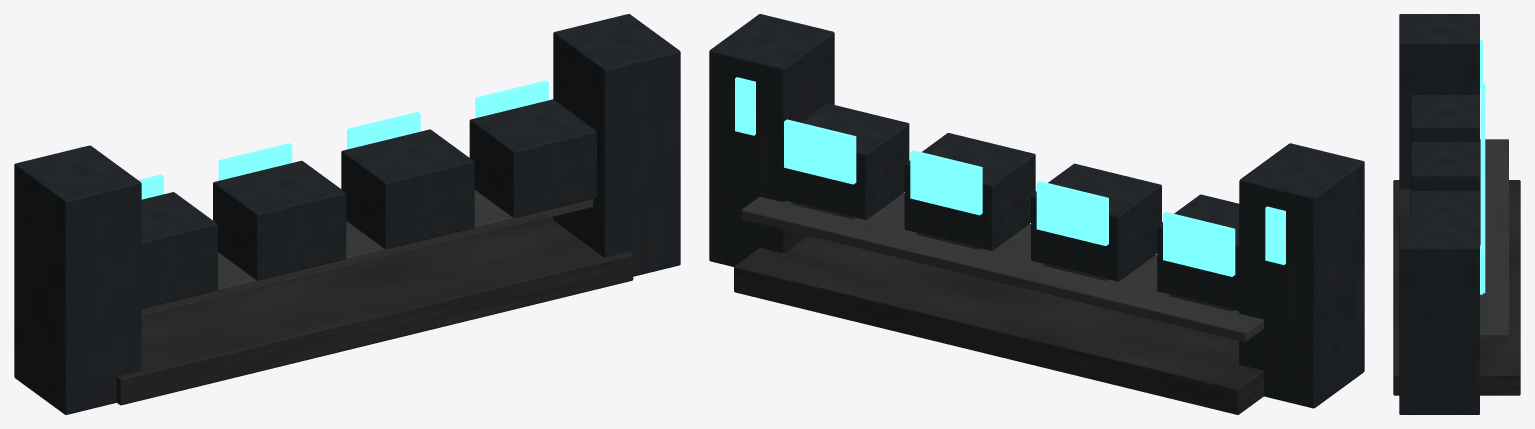
The model's file is console_bank_v3.glb.
The picture shows the model from 3 angles, left to right: view 1: azimuth 30°, elevation 25°; view 2: azimuth 150°, elevation 25°; view 3: azimuth 270°, elevation 25°; orthographic projection. The views are drawn at different scales.
Parts seen in each view (by area): view 1: Base, Tower_-4.2, Tower_4.2, Pod_2, Pod_1, Pod_3, Pod_0, Desk, Screen_1, Screen_3, Screen_2; view 2: Base, Tower_-4.2, Tower_4.2, Desk, Pod_2, Pod_1, Pod_3, Pod_0, Screen_3, Screen_1, Screen_2, Screen_0 (+2 smaller); view 3: Tower_4.2, Tower_-4.2, Base, Desk, Pod_1, Pod_0, Pod_2, Screen_0, Screen_1, Screen_2, Screen_3, TowerLite_4.2 (+1 smaller).
Part boxes in pixels (x1,y1,x2,y2): Base: (116,217,633,405); Tower_-4.2: (14,145,141,414); Tower_4.2: (553,14,680,276); Pod_2: (341,129,474,249); Pod_1: (213,160,346,280); Pod_3: (469,99,596,217); Pod_0: (141,192,217,308); Desk: (141,190,593,316); Screen_1: (218,143,292,180); Screen_3: (475,80,548,118); Screen_2: (347,112,420,149); Base: (734,236,1263,414); Tower_-4.2: (1239,143,1364,408); Tower_4.2: (709,14,834,266); Desk: (741,193,1263,341); Pod_2: (904,133,1035,250); Pod_1: (1031,163,1161,281); Pod_3: (779,103,909,219); Pod_0: (1157,194,1243,311); Screen_3: (784,119,856,184); Screen_1: (1036,181,1108,245); Screen_2: (910,150,982,215); Screen_0: (1163,212,1235,276); Tower_4.2: (1399,219,1479,414); Tower_-4.2: (1399,14,1479,189); Base: (1393,180,1520,395); Desk: (1480,139,1508,341); Pod_1: (1410,142,1479,191); Pod_0: (1410,95,1479,142); Pod_2: (1410,191,1479,219); Screen_0: (1480,83,1485,131); Screen_1: (1480,132,1485,180); Screen_2: (1480,181,1485,229); Screen_3: (1480,229,1485,293); TowerLite_4.2: (1480,245,1482,294).
Size of the model in its own units: 9.6 by 3.2 by 2.2.
4 materials, 4 textured.
